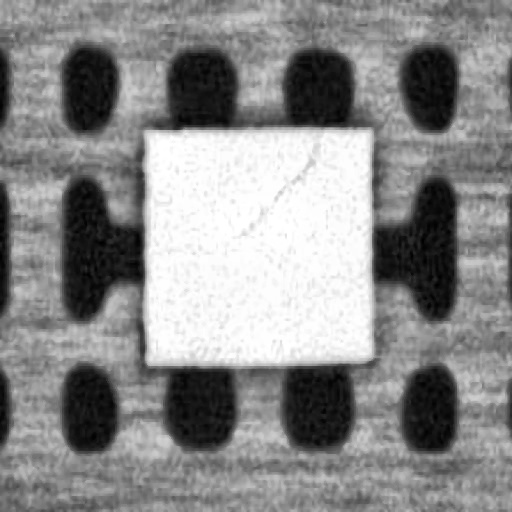DIE_CRACK: (228, 143, 322, 228)
